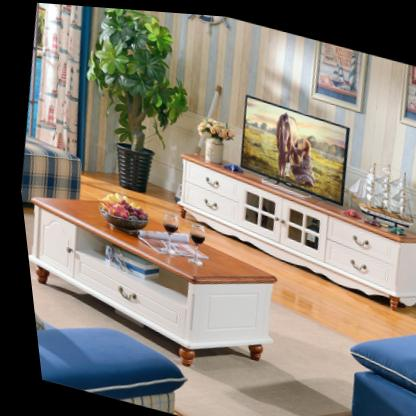Curtains: (8, 0, 114, 163)
TV stand: (155, 143, 416, 314)
